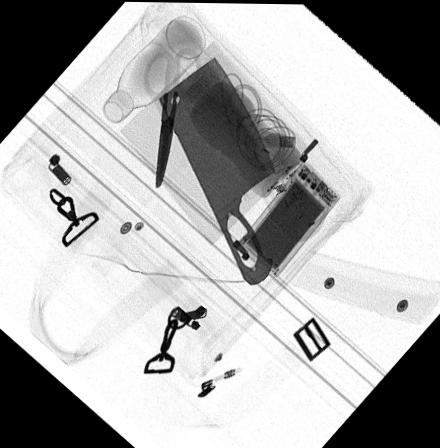Knife: (157, 54, 276, 282)
Powerbank: (236, 159, 340, 279)
Scissors: (139, 45, 202, 189)
